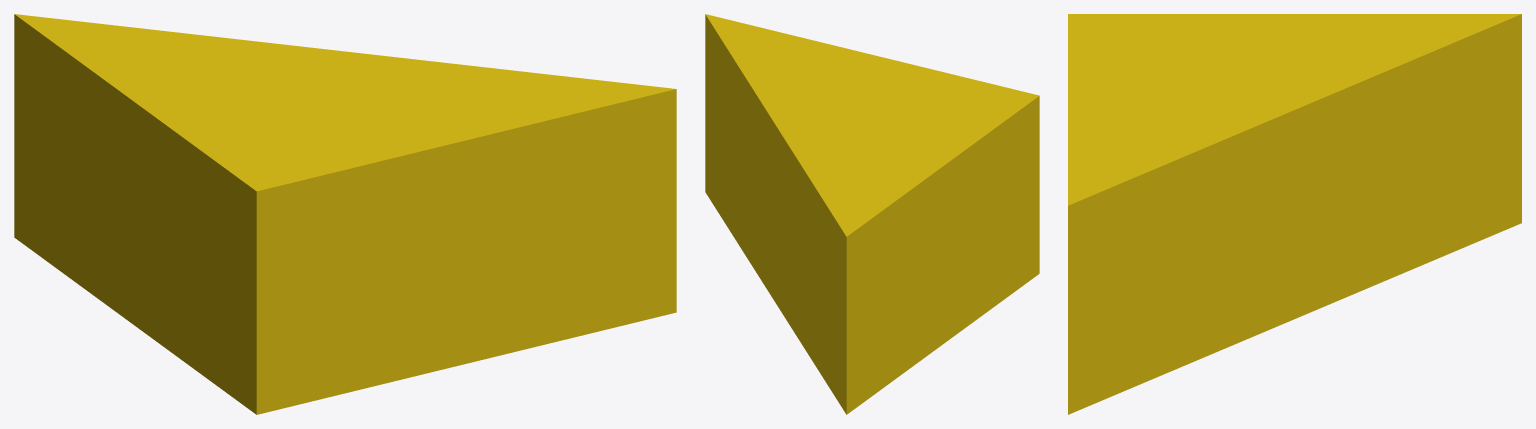
The model's file is BigTriY.fbx.
3 views of the same model, side by side, from view 1: azimuth 30°, elevation 25°; view 2: azimuth 150°, elevation 25°; view 3: azimuth 270°, elevation 25° (orthographic). The views are drawn at different scales.
Visible parts, largest first — view 1: BigTriY; view 2: BigTriY; view 3: BigTriY.
Boxes of the visible parts, x1=… form: BigTriY: x1=14, y1=14, x2=676, y2=414; BigTriY: x1=705, y1=14, x2=1039, y2=414; BigTriY: x1=1068, y1=14, x2=1521, y2=414.
Bounding box in the file's own units: 1180 × 600 × 1180.
